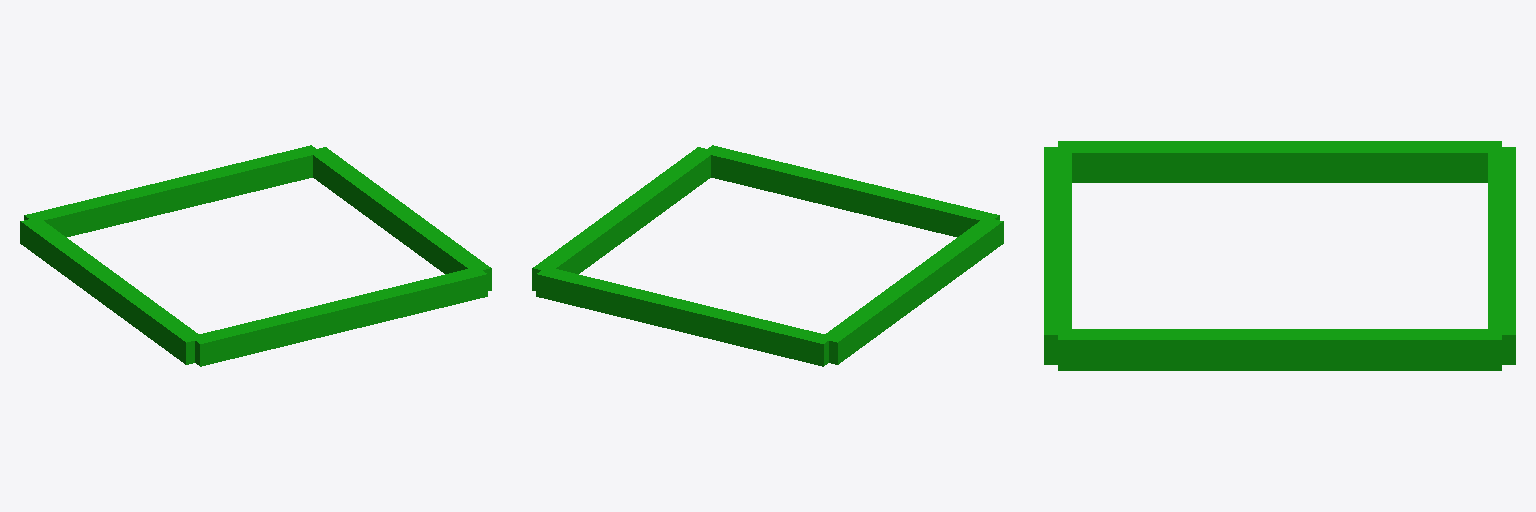
URDF robot description (ring):
<?xml version="1.0"?>
<robot name="ring">
  <link name="ring_link">
    <contact>
      <lateral_friction value="1.0"/>
      <spinning_friction value=".001"/>
    </contact>
    <inertial>
      <origin rpy="0 0 0" xyz="0 0 0"/>
      <mass value="0.02"/>
      <inertia ixx="1" ixy="0" ixz="0" iyy="1" iyz="0" izz="1"/>
    </inertial>
    <visual>
      <origin rpy="0 0 0" xyz="0.0 -0.2 0.0"/>
      <geometry>
        <box size="0.40 0.025 0.03"/>
      </geometry>
      <material name="blockmat">
        <color rgba="0.1 0.7 0.1 1"/>
      </material>
    </visual>
    <collision>
      <origin rpy="0 0 0" xyz="0.0 -0.2 0.0"/>
      <geometry>
        <box size="0.40 0.025 0.03"/>
      </geometry>
    </collision>
    <visual>
      <origin rpy="0 0 1.570796" xyz="0.2 0.0 0.0"/>
      <geometry>
        <box size="0.40 0.025 0.03"/>
      </geometry>
      <material name="blockmat">
        <color rgba="0.1 0.7 0.1 1"/>
      </material>
    </visual>
    <collision>
      <origin rpy="0 0 1.570796" xyz="0.2 0.0 0.0"/>
      <geometry>
        <box size="0.40 0.025 0.03"/>
      </geometry>
    </collision>
    <visual>
      <origin rpy="0 0 0" xyz="0.0 0.2 0.0"/>
      <geometry>
        <box size="0.40 0.025 0.03"/>
      </geometry>
      <material name="blockmat">
        <color rgba="0.1 0.7 0.1 1"/>
      </material>
    </visual>
    <collision>
      <origin rpy="0 0 0" xyz="0.0 0.2 0.0"/>
      <geometry>
        <box size="0.40 0.025 0.03"/>
      </geometry>
    </collision>
    <visual>
      <origin rpy="0 0 1.570796" xyz="-0.2 0.0 0.0"/>
      <geometry>
        <box size="0.40 0.025 0.03"/>
      </geometry>
      <material name="blockmat">
        <color rgba="0.1 0.7 0.1 1"/>
      </material>
    </visual>
    <collision>
      <origin rpy="0 0 1.570796" xyz="-0.2 0.0 0.0"/>
      <geometry>
        <box size="0.40 0.025 0.03"/>
      </geometry>
    </collision>
  </link>
</robot>

--- Facts derived from the render (not from the file) ---
3 views of the same robot in one strip: view 1: azimuth 30°, elevation 25°; view 2: azimuth 150°, elevation 25°; view 3: azimuth 270°, elevation 25° (orthographic).
Model ring with 1 links and 0 joints (none), rooted at ring_link, posed all joints at 0.
Links seen in each view (by area): view 1: ring_link; view 2: ring_link; view 3: ring_link.
Link boxes in pixels (x1,y1,x2,y2): ring_link: (20,145,491,366); ring_link: (532,145,1003,366); ring_link: (1044,141,1515,370).
Bounding box of the posed robot: 0.425 × 0.425 × 0.03 m (x, y, z).
Geometry: primitives only (box / cylinder / sphere), no mesh files.